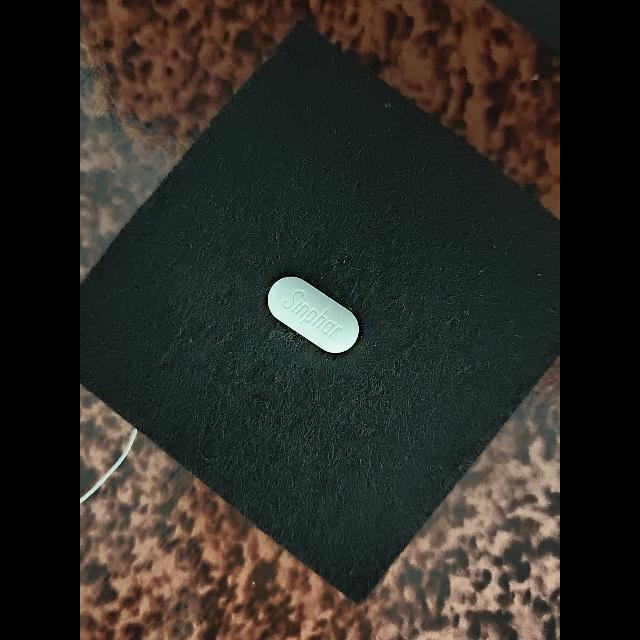Intact Pill: (267, 276, 359, 353)
